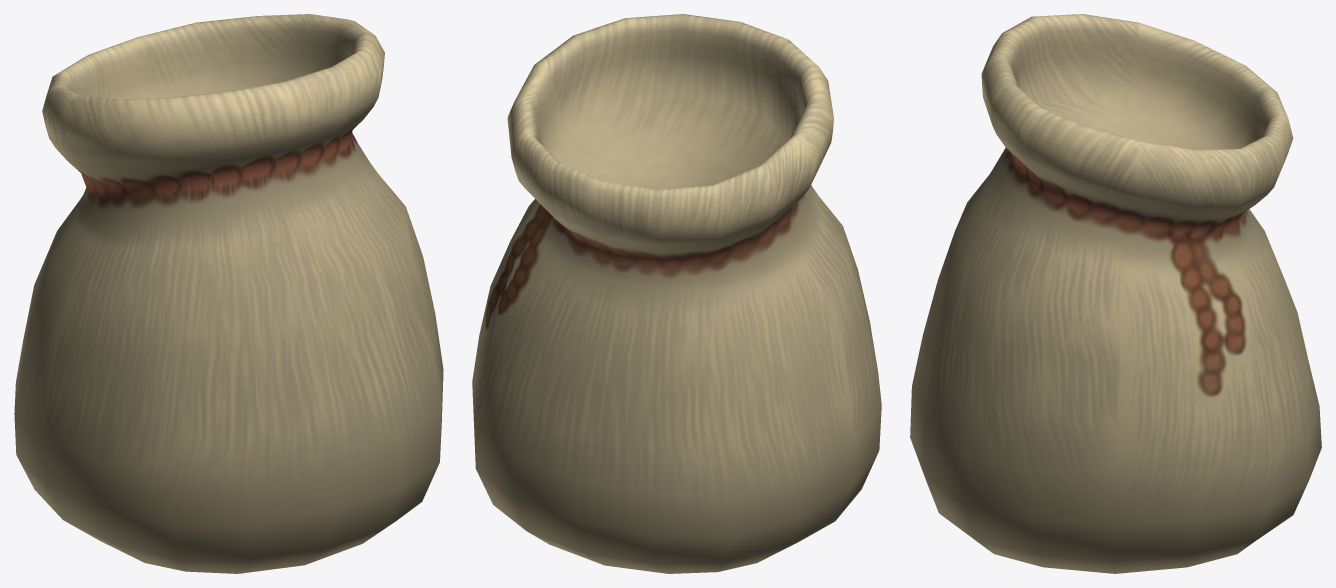
File: Model_TexturaSacoAberto2_v1.fbx
3 views of the same model, side by side, from view 1: azimuth 30°, elevation 25°; view 2: azimuth 150°, elevation 25°; view 3: azimuth 270°, elevation 25° (orthographic). The views are drawn at different scales.
Visible parts, largest first — view 1: saco torto.002; view 2: saco torto.002; view 3: saco torto.002.
Boxes of the visible parts, box(x1,y1,x2,y2) form: saco torto.002: box(14, 14, 443, 573); saco torto.002: box(472, 14, 881, 573); saco torto.002: box(910, 14, 1321, 573).
Size of the model in its own units: 233 by 292 by 231.
1 material, 1 textured.
